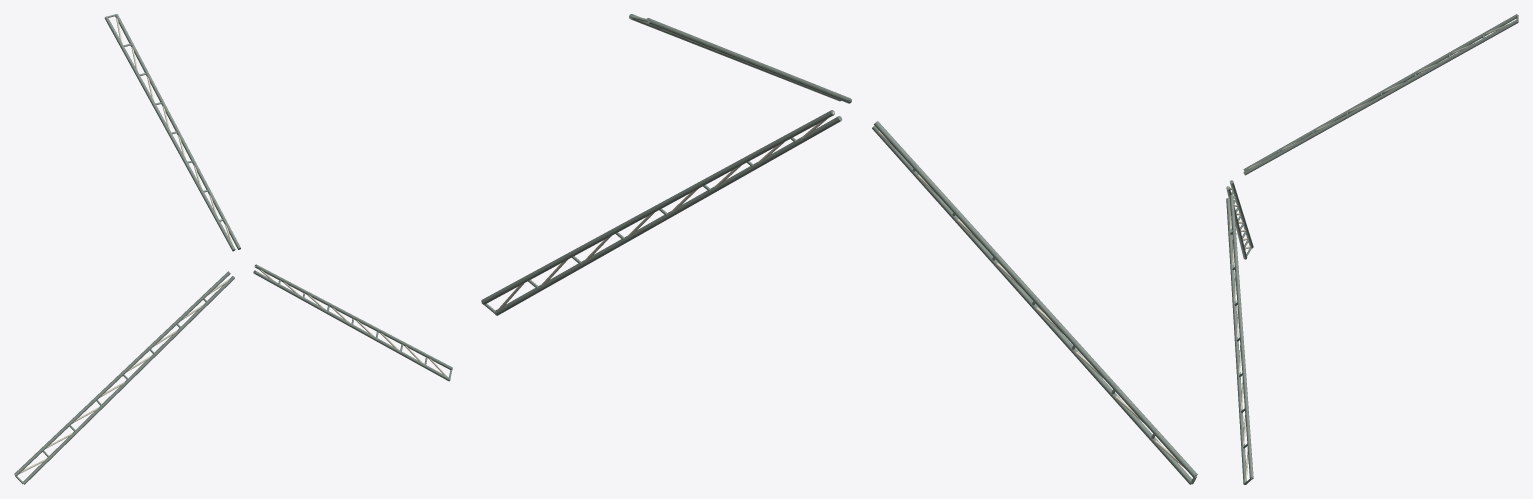
Rendered from Feed_Supports.glb.
3 renders of one model, left to right at view 1: azimuth 30°, elevation 25°; view 2: azimuth 150°, elevation 25°; view 3: azimuth 270°, elevation 25°, orthographic. The views are drawn at different scales.
Parts seen in each view (by area): view 1: Feed_Supports; view 2: Feed_Supports; view 3: Feed_Supports.
Part boxes in pixels (<box>): Feed_Supports: <box>14,14,452,484</box>; Feed_Supports: <box>481,14,1197,484</box>; Feed_Supports: <box>1226,14,1518,484</box>.
Size of the model in its own units: 18.83 by 13.41 by 10.
Materials: 2 (1 with a texture image).
